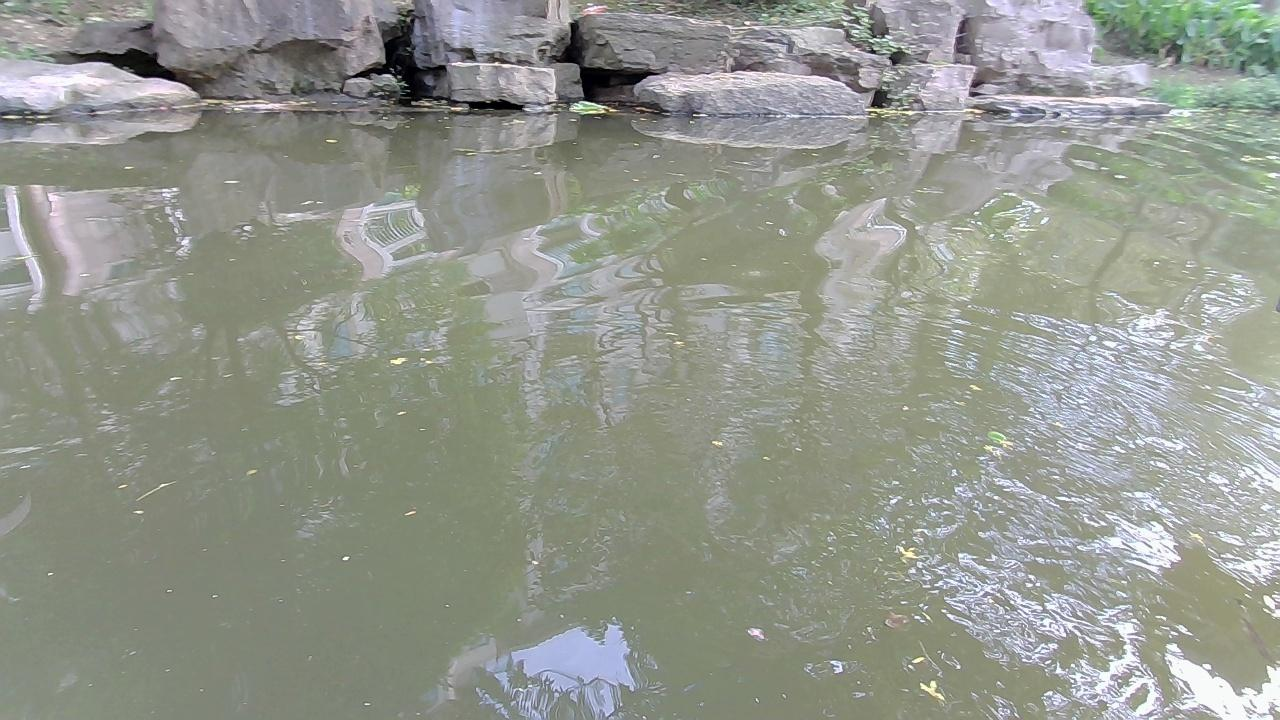bottle: (573, 97, 613, 116)
